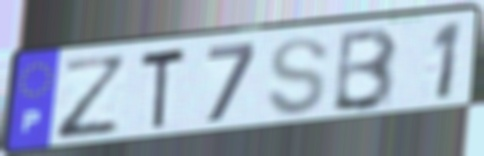1: (425, 18, 465, 104)
7: (202, 39, 261, 127)
B: (329, 24, 401, 114)
S: (264, 35, 332, 119)
T: (138, 44, 189, 136)
Z: (54, 53, 133, 145)
